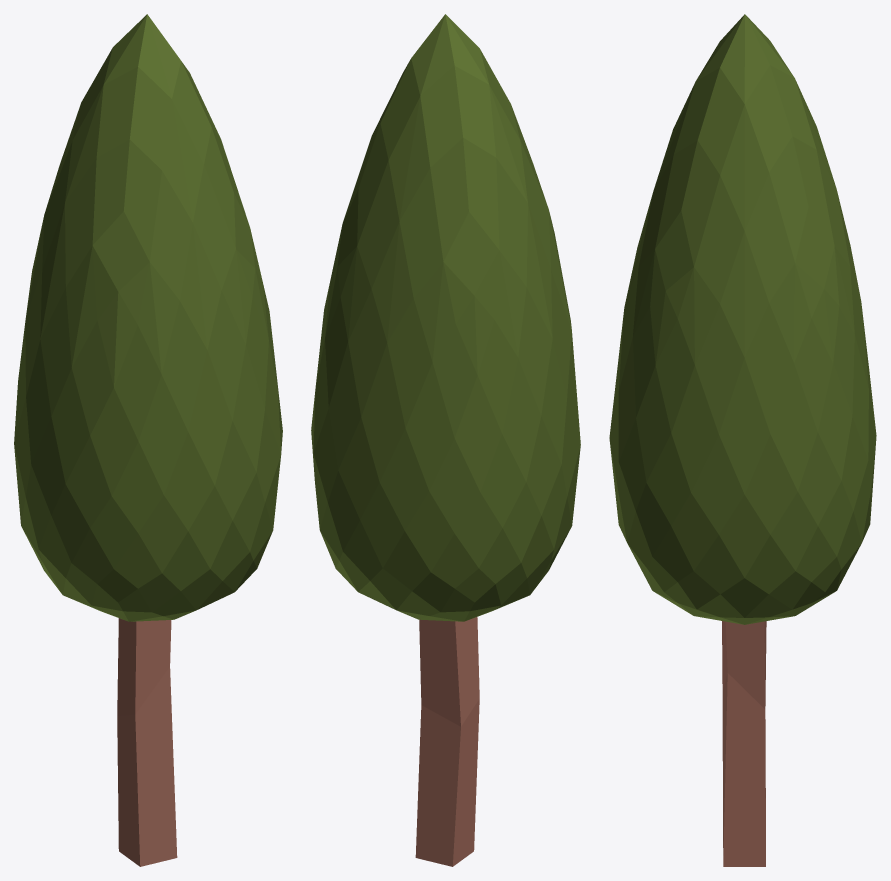
The model's file is tree02.fbx.
3 renders of one model, left to right at view 1: azimuth 30°, elevation 25°; view 2: azimuth 150°, elevation 25°; view 3: azimuth 270°, elevation 25°, orthographic.
Visible parts, largest first — view 1: Tree02; view 2: Tree02; view 3: Tree02.
Part boxes in pixels (box(x1,y1,x2,y2)): Tree02: box(14, 14, 282, 866); Tree02: box(311, 14, 580, 866); Tree02: box(609, 14, 876, 866).
Bounding box in the file's own units: 167 × 578 × 166.
